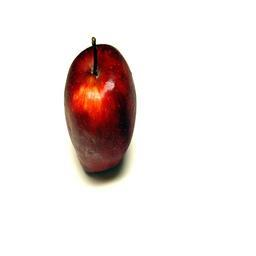apple: (63, 42, 137, 176)
